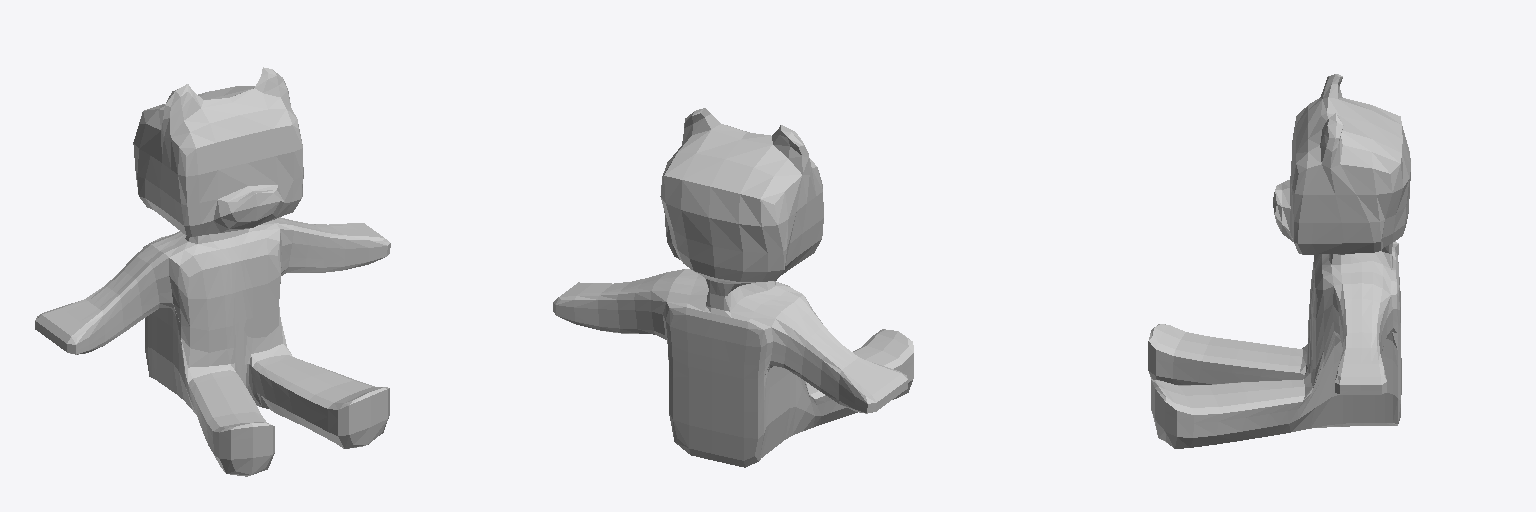
Rendered from bear.obj.
The picture shows the model from 3 angles: view 1: azimuth 30°, elevation 25°; view 2: azimuth 150°, elevation 25°; view 3: azimuth 270°, elevation 25°; orthographic projection.
Parts seen in each view (by area): view 1: pCube1; view 2: pCube1; view 3: pCube1.
Boxes of the visible parts, x1=… form: pCube1: x1=35, y1=67, x2=390, y2=476; pCube1: x1=553, y1=108, x2=913, y2=467; pCube1: x1=1148, y1=74, x2=1410, y2=448.
Size of the model in its own units: 2.36 by 2.21 by 1.63.